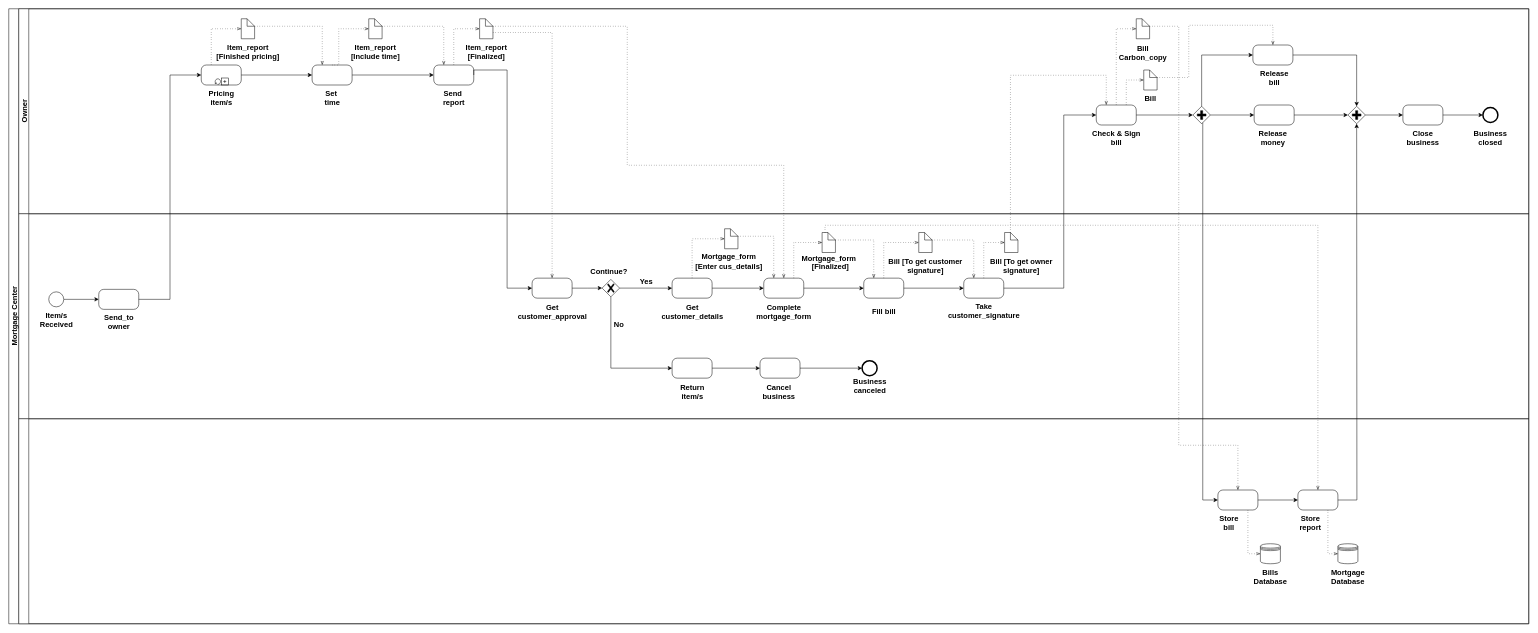
Image size: 1538x633. Some labels were removed from this diagram. The shapes that lost their labels are listed below. From the top down, each one's box as (x1, y1, x2, y2) in pixels, then its label:
(18, 213, 1529, 419): Cashier
(18, 418, 1529, 624): Book-keeper
